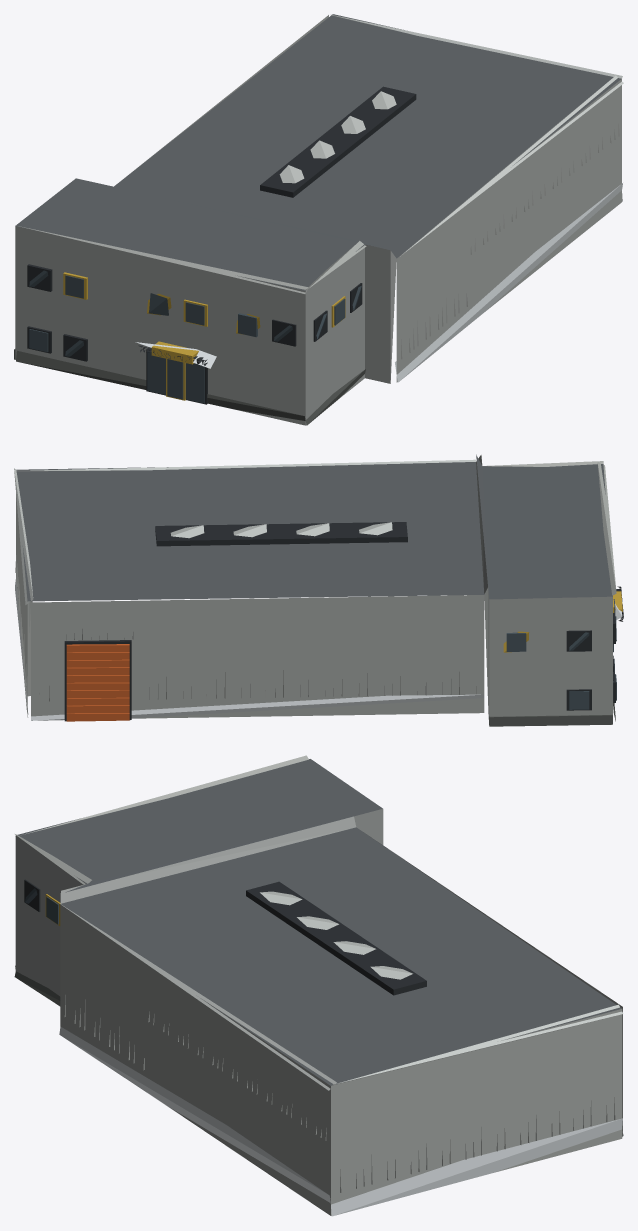
The model's file is toekomstmuziek.lod1.glb.
3 renders of one model, top to bottom at view 1: azimuth 30°, elevation 25°; view 2: azimuth 150°, elevation 25°; view 3: azimuth 270°, elevation 25°, orthographic. The views are drawn at different scales.
Visible parts, largest first — view 1: toekomstmuziek; view 2: toekomstmuziek; view 3: toekomstmuziek.
Part boxes in pixels (x1,y1,x2,y2): toekomstmuziek: (14, 14, 623, 425); toekomstmuziek: (14, 454, 623, 726); toekomstmuziek: (14, 755, 623, 1216).
Size of the model in its own units: 32.59 by 6.84 by 26.4.
